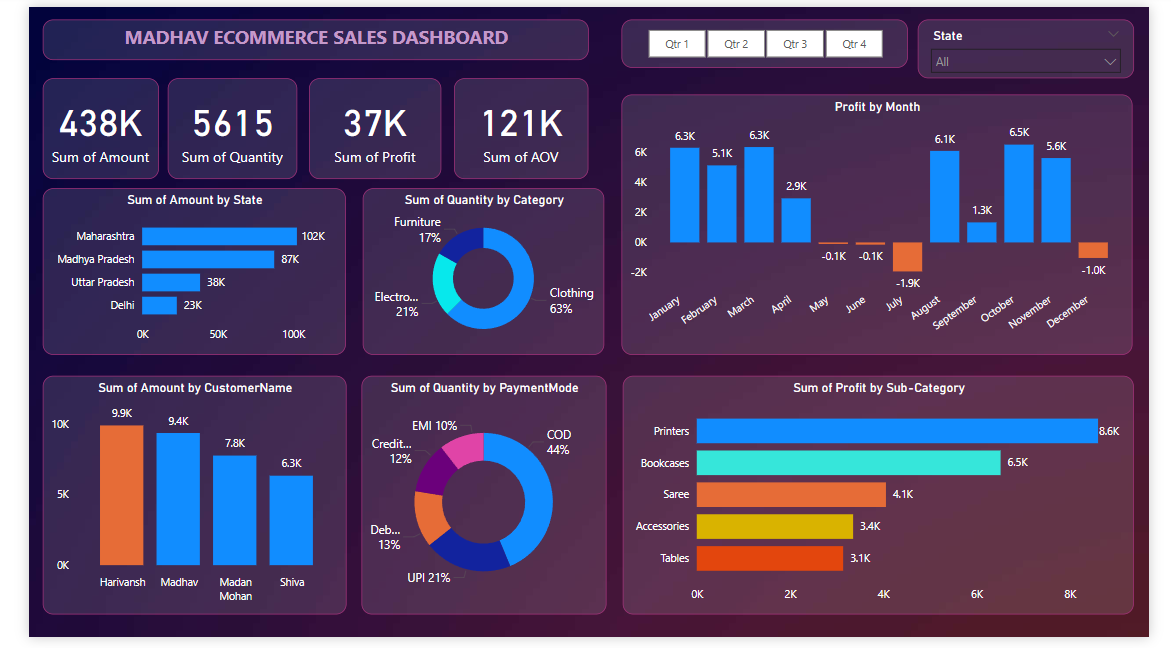

The page's visual inventory and layout, read from the dashboard file:
{"tool":"powerbi","page":{"name":"Page 1","canvas":[1280,720],"ordinal":0},"visuals":[{"type":"columnChart","title":"Profit by Month","fields":{"Category":["Orders.Order Date.Variation.Date Hierarchy.Month"],"Y":["Sum(Details.Profit)"]},"box":[677.5,100,583.8,297.5],"z":0},{"type":"clusteredBarChart","fields":{"Category":["Details.Sub-Category"],"Y":["Sum(Details.Profit)"]},"box":[678.6,421.4,584.3,272.9],"z":1000},{"type":"donutChart","fields":{"Category":["Details.Category"],"Y":["Sum(Details.Quantity)"]},"box":[381.8,207.3,276.4,190],"z":2000},{"type":"donutChart","fields":{"Y":["Sum(Details.Quantity)"],"Category":["Details.PaymentMode"]},"box":[380,421.4,280,272.9],"z":3000},{"type":"card","fields":{"Values":["Sum(Details.Amount)"]},"box":[16.4,80.9,132.7,115.5],"z":4000},{"type":"card","fields":{"Values":["Sum(Details.AOV)"]},"box":[486.4,80.9,153.6,115.5],"z":5000},{"type":"card","fields":{"Values":["Sum(Details.Quantity)"]},"box":[159.1,80.9,148.2,115.5],"z":6000},{"type":"card","fields":{"Values":["Sum(Details.Profit)"]},"box":[320,81.2,151.2,115],"z":7000},{"type":"clusteredBarChart","fields":{"Category":["Orders.State"],"Y":["Sum(Details.Amount)"]},"box":[16.2,207.5,346.2,190],"z":8000},{"type":"columnChart","fields":{"Category":["Orders.CustomerName"],"Y":["Sum(Details.Amount)"]},"box":[15.7,421.4,347.1,272.9],"z":9000},{"type":"textbox","title":"MADHAV ECOMMERCE SALES DASHBOARD ","box":[16.2,13.8,623.8,46.2],"z":10000},{"type":"slicer","fields":{"Values":["Orders.Order Date.Variation.Date Hierarchy.Quarter"]},"box":[677.5,13.8,327.5,55],"z":11000},{"type":"slicer","fields":{"Values":["Orders.State"]},"box":[1015.7,14.3,247.1,67.1],"z":12000}]}

Visuals, with their boxes in screenshot pixels (x1, y1, x2, y2), scaled from the page's 1280x720 canvas onto the 1171x648 screenshot:
"Profit by Month" columnChart: 620,90,1154,358
clusteredBarChart - Details.Sub-Category x Sum(Details.Profit): 621,379,1155,625
donutChart - Details.Category x Sum(Details.Quantity): 349,187,602,358
donutChart - Sum(Details.Quantity) x Details.PaymentMode: 348,379,604,625
card - Sum(Details.Amount): 15,73,136,177
card - Sum(Details.AOV): 445,73,586,177
card - Sum(Details.Quantity): 146,73,281,177
card - Sum(Details.Profit): 293,73,431,177
clusteredBarChart - Orders.State x Sum(Details.Amount): 15,187,332,358
columnChart - Orders.CustomerName x Sum(Details.Amount): 14,379,332,625
"MADHAV ECOMMERCE SALES DASHBOARD " textbox: 15,12,586,54
slicer - Orders.Order Date.Variation.Date Hierarchy.Quarter: 620,12,919,62
slicer - Orders.State: 929,13,1155,73
